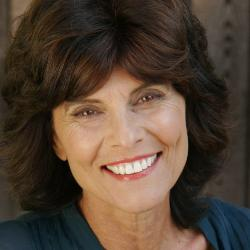face: (9, 5, 221, 218)
